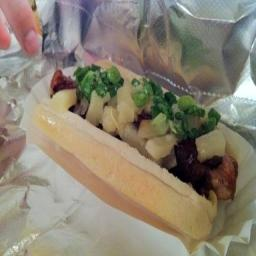hotdog: (173, 140, 235, 209), (48, 64, 77, 100)
